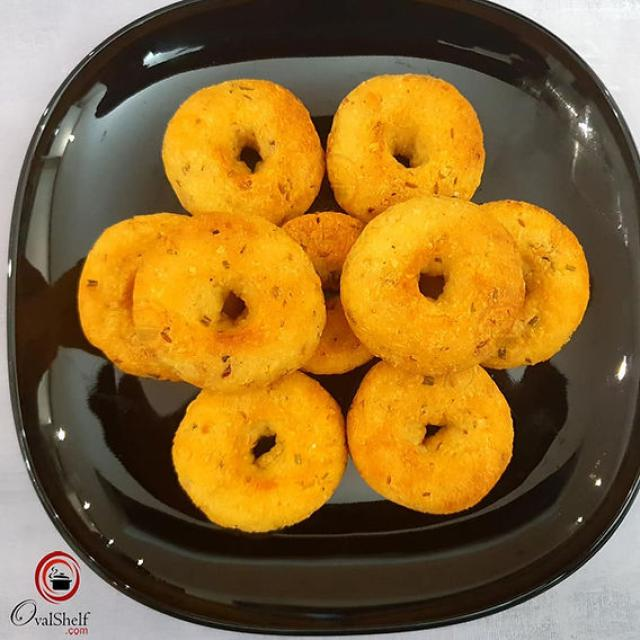MEDU VADA: (132, 212, 326, 395), (340, 194, 524, 375), (77, 214, 186, 380)
